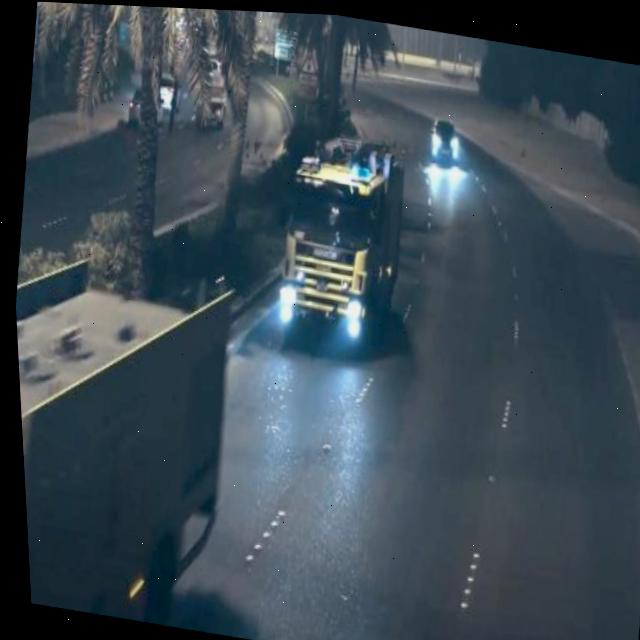emergency: (251, 110, 424, 386)
